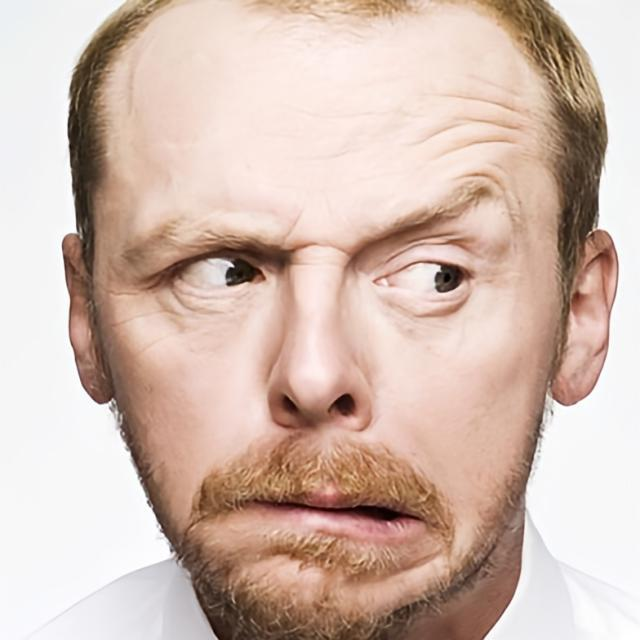fear: (88, 0, 562, 640)
